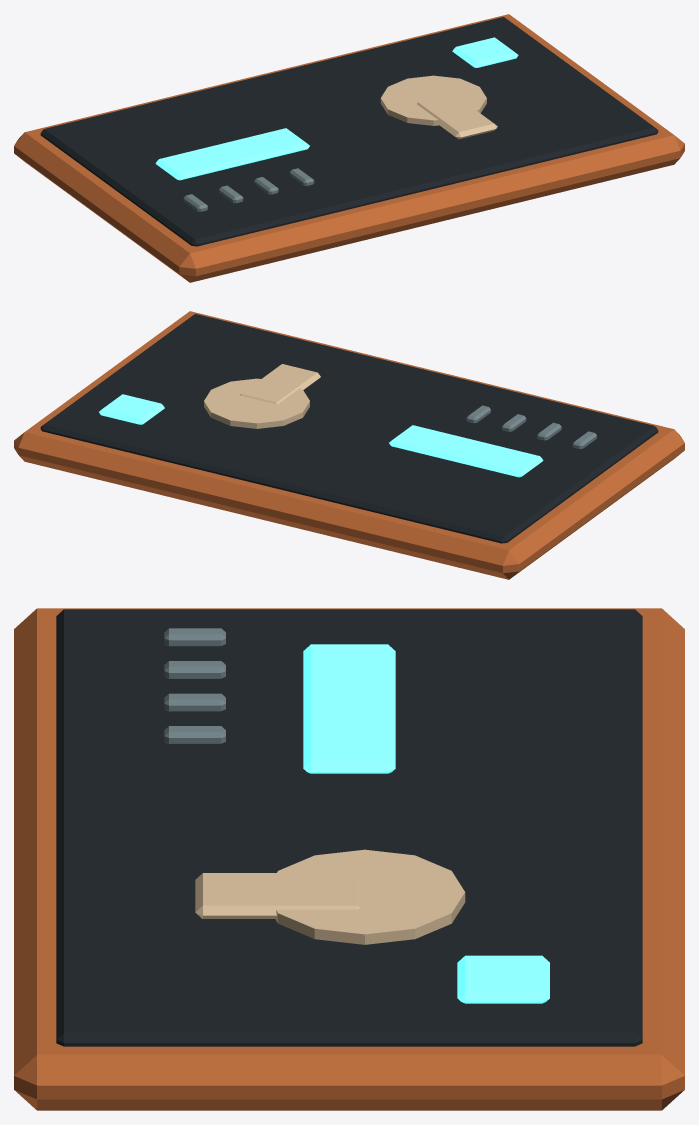
Rendered from wsc-kit-006-vault-keycard.glb.
3 views of the same model, one above another, from view 1: azimuth 30°, elevation 25°; view 2: azimuth 150°, elevation 25°; view 3: azimuth 270°, elevation 25° (orthographic). The views are drawn at different scales.
Visible parts, largest first — view 1: Vault_Keycard_Quest_Prop; view 2: Vault_Keycard_Quest_Prop; view 3: Vault_Keycard_Quest_Prop.
Part boxes in pixels (x1,y1,x2,y2): Vault_Keycard_Quest_Prop: [14, 14, 684, 282]; Vault_Keycard_Quest_Prop: [14, 311, 684, 579]; Vault_Keycard_Quest_Prop: [14, 608, 684, 1110].
Size of the model in its own units: 0.143 by 0.0114 by 0.087.
